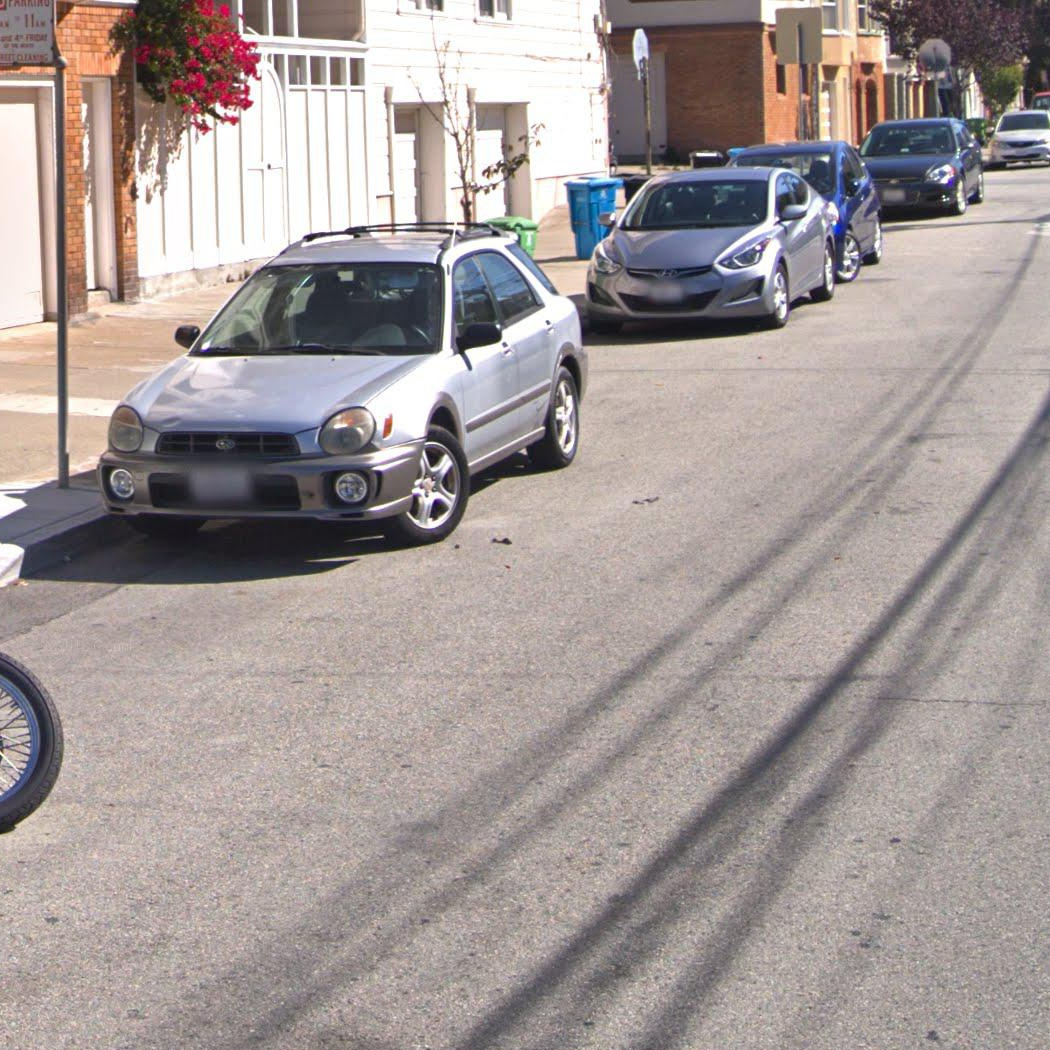No Parking: (0, 0, 55, 66)
